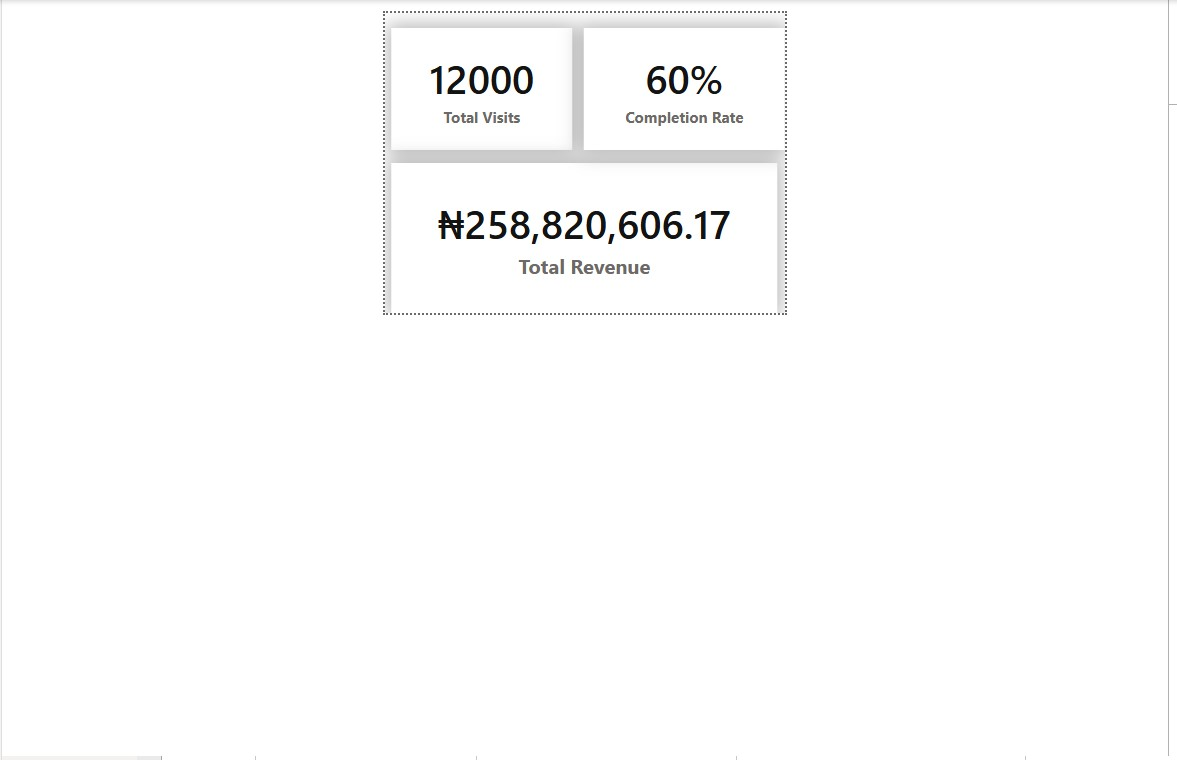

The dashboard page shown, as its layout file describes it:
{"tool":"powerbi","page":{"name":"Doctor Tooltip","canvas":[320,240],"ordinal":5},"visuals":[{"type":"cardVisual","fields":{"Data":["DAX MEASURES.Total Visits"]},"box":[5,12,145,98],"z":0},{"type":"cardVisual","fields":{"Data":["DAX MEASURES.Total Revenue"]},"box":[5,120,309,120],"z":1},{"type":"cardVisual","fields":{"Data":["DAX MEASURES.Completion Rate"]},"box":[159,12,161,98],"z":2}]}

Visuals, with their boxes on the page's 320x240 design canvas (x1, y1, x2, y2). These are canvas units, not pixel positions in the 1177x760 screenshot, which may show the page scaled, cropped or inside an application window:
cardVisual - DAX MEASURES.Total Visits: detection(5, 12, 150, 110)
cardVisual - DAX MEASURES.Total Revenue: detection(5, 120, 314, 240)
cardVisual - DAX MEASURES.Completion Rate: detection(159, 12, 320, 110)
